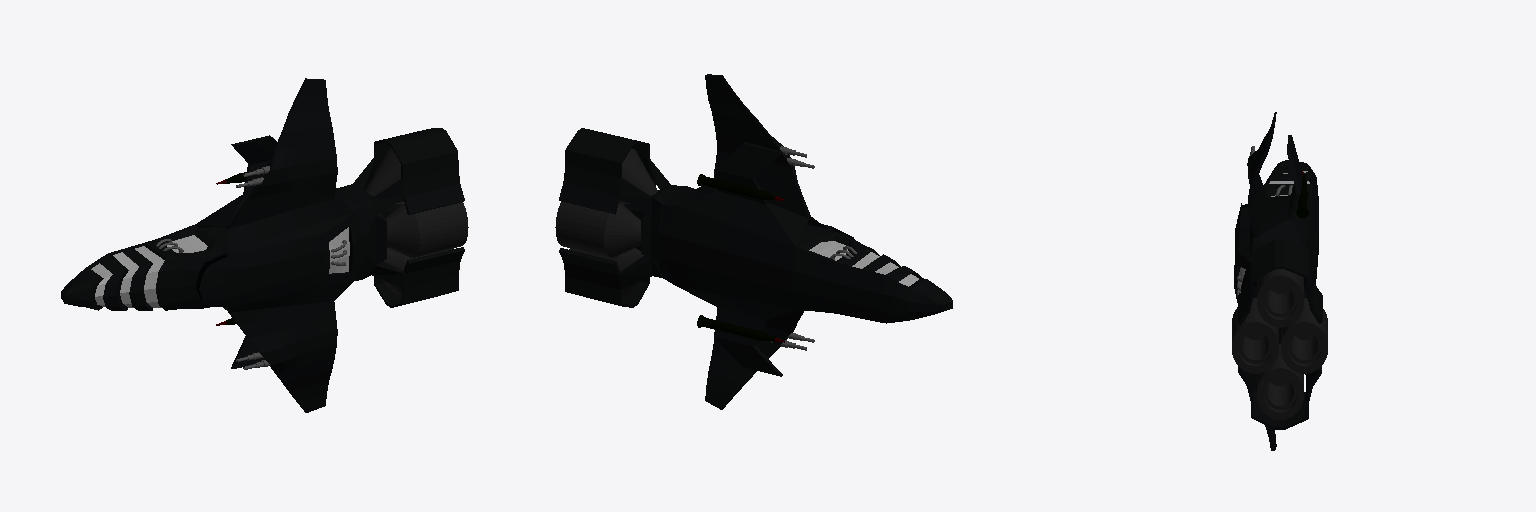
File: spaceship2.obj
3 renders of one model, left to right at view 1: azimuth 30°, elevation 25°; view 2: azimuth 150°, elevation 25°; view 3: azimuth 270°, elevation 25°, orthographic.
Parts seen in each view (by area): view 1: Cube; view 2: Cube; view 3: Cube.
Part boxes in pixels (left/top/right/bottom): Cube: left=61, top=78, right=468, bottom=412; Cube: left=555, top=74, right=952, bottom=409; Cube: left=1232, top=112, right=1327, bottom=450.
Bounding box in the file's own units: 5.77 × 4.89 × 1.28.